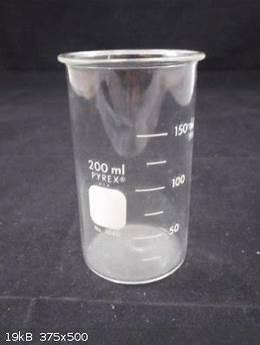Beaker: (51, 41, 213, 290)
